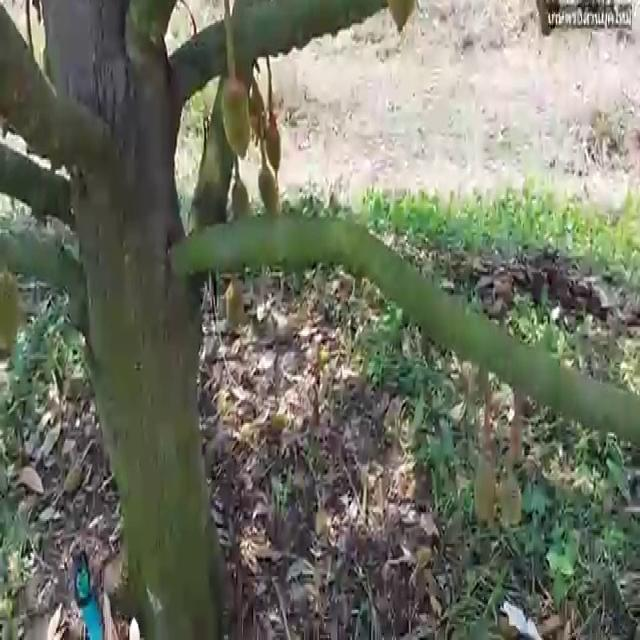durian: (218, 70, 254, 165), (228, 176, 254, 231), (256, 160, 280, 218), (264, 123, 283, 173)
